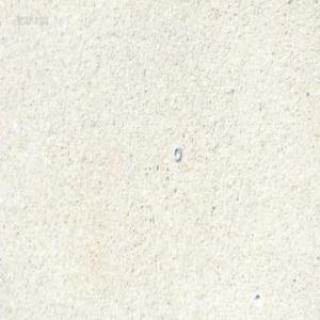Washertrack_idkeyframe: (173, 144, 181, 160)
